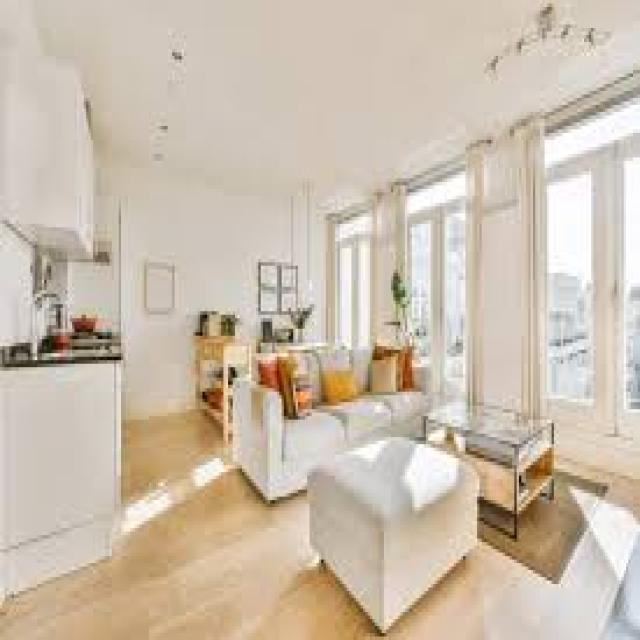Sofa: (235, 340, 443, 504)
Table: (316, 442, 467, 610), (426, 384, 558, 544)
